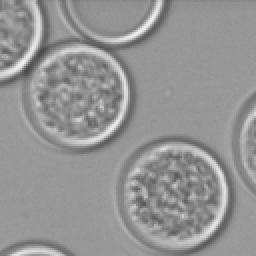picoshell: (114, 136, 232, 252), (18, 38, 132, 152), (56, 0, 168, 48), (232, 92, 254, 192), (0, 240, 72, 254)
